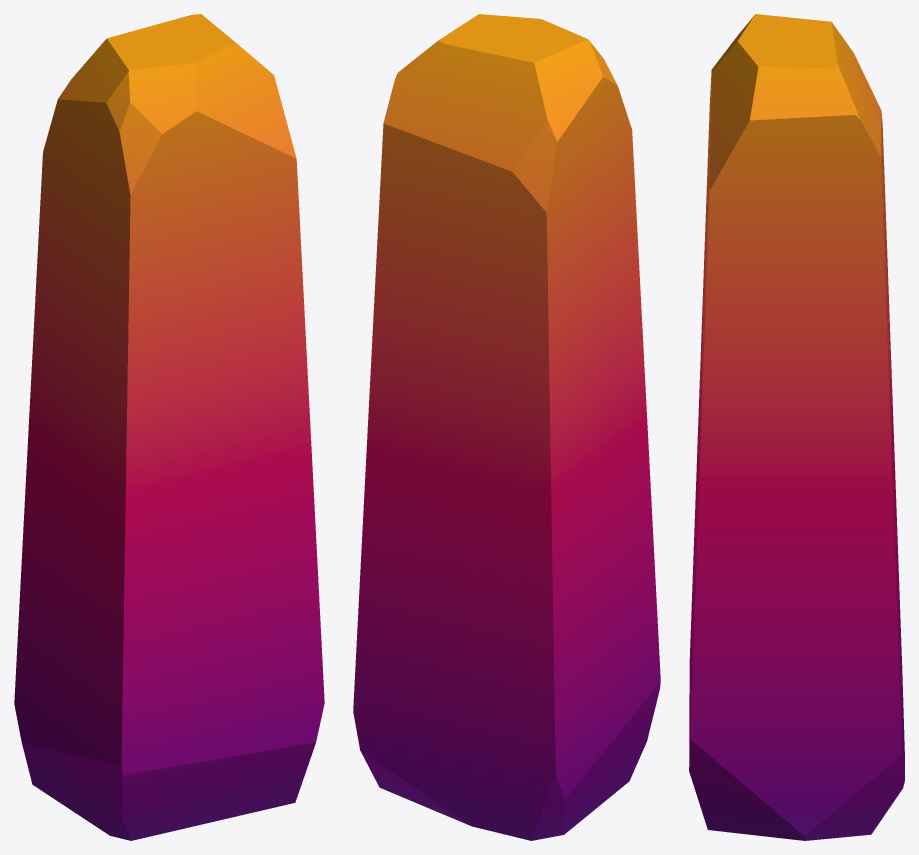
File: cristales04.fbx
3 renders of one model, left to right at view 1: azimuth 30°, elevation 25°; view 2: azimuth 150°, elevation 25°; view 3: azimuth 270°, elevation 25°, orthographic.
Visible parts, largest first — view 1: cristal12; view 2: cristal12; view 3: cristal12.
Boxes of the visible parts, x1=… form: cristal12: x1=14, y1=14, x2=324, y2=840; cristal12: x1=353, y1=14, x2=660, y2=840; cristal12: x1=689, y1=14, x2=904, y2=840.
Size of the model in its own units: 290 by 998 by 261.
1 material, 1 textured.
